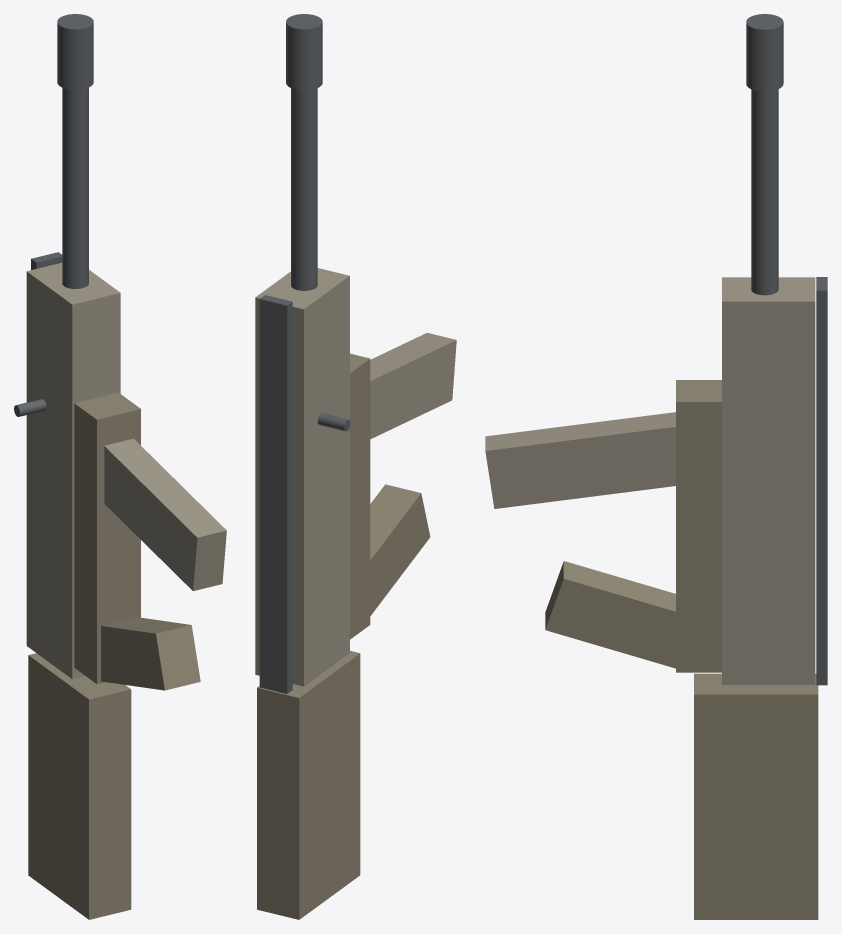
Rendered from SCAR_Rifle.fbx.
The picture shows the model from 3 angles, left to right: view 1: azimuth 30°, elevation 25°; view 2: azimuth 150°, elevation 25°; view 3: azimuth 270°, elevation 25°; orthographic projection. The views are drawn at different scales.
Parts seen in each view (by area): view 1: Receiver_Upper, Stock_Boot, Receiver_Lower, Magazine_SCAR, Pistol_Grip, Barrel, Flash_Hider; view 2: Receiver_Upper, Stock_Boot, Picatinny_Top, Magazine_SCAR, Receiver_Lower, Barrel, Pistol_Grip, Flash_Hider; view 3: Receiver_Upper, Stock_Boot, Magazine_SCAR, Receiver_Lower, Pistol_Grip, Barrel, Picatinny_Top, Flash_Hider.
Part boxes in pixels (<box>): Receiver_Upper: <box>26,262,120,679</box>; Stock_Boot: <box>28,653,131,919</box>; Receiver_Lower: <box>74,392,140,683</box>; Magazine_SCAR: <box>104,438,226,590</box>; Pistol_Grip: <box>101,617,200,690</box>; Barrel: <box>62,87,88,288</box>; Flash_Hider: <box>57,14,93,89</box>; Receiver_Upper: <box>255,268,349,686</box>; Stock_Boot: <box>257,651,360,919</box>; Picatinny_Top: <box>259,295,292,693</box>; Magazine_SCAR: <box>370,332,456,439</box>; Receiver_Lower: <box>350,353,370,639</box>; Barrel: <box>291,88,317,290</box>; Pistol_Grip: <box>370,484,430,615</box>; Flash_Hider: <box>286,14,322,90</box>; Receiver_Upper: <box>722,277,815,684</box>; Stock_Boot: <box>694,673,818,919</box>; Magazine_SCAR: <box>485,412,675,508</box>; Receiver_Lower: <box>676,380,721,672</box>; Pistol_Grip: <box>545,561,675,668</box>; Barrel: <box>751,89,778,295</box>; Picatinny_Top: <box>816,277,827,685</box>; Flash_Hider: <box>746,14,783,91</box>.
Size of the model in its own units: 0.071 by 0.7875 by 0.2752.
